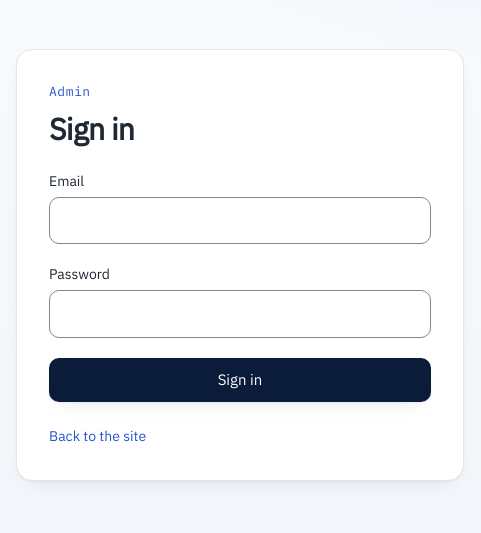
Test: admin authentication › shows one generic message for a failed login and clears the password field
Step 1. Type "admin@example.test" into the field labelled "Email" → (240, 220), box [49, 196, 431, 244]
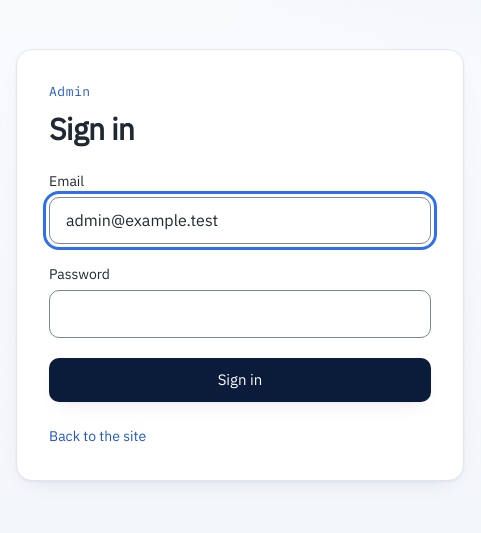
Step 2. Type "wrong" into the password field labelled "Password" → (240, 314), box [49, 290, 431, 338]
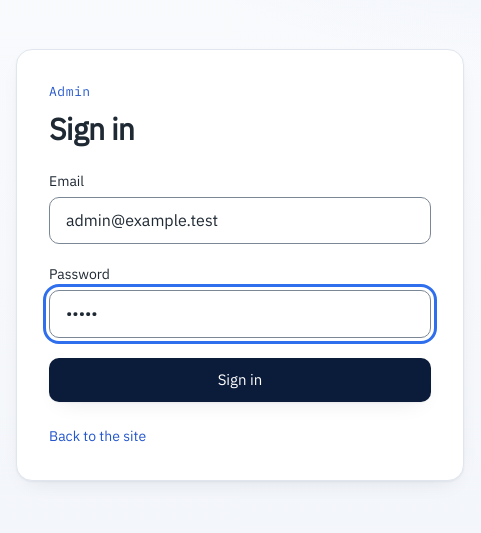
Step 3. Click the button "Sign in" → (240, 380), box [49, 358, 431, 402]
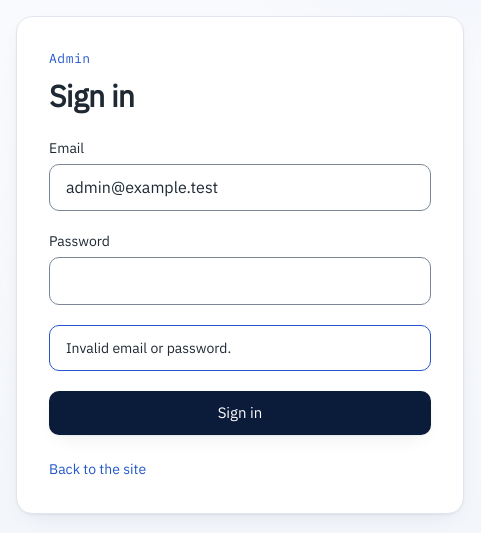
Expected: the message reads "Invalid email or password.", [66, 339, 231, 357]
Expected: the password field labelled "Password" is empty, [49, 257, 431, 305]
